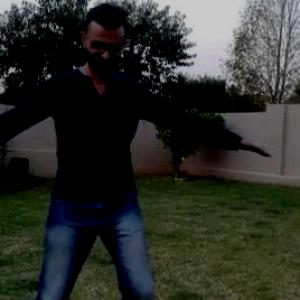land: (0, 27, 221, 299)
